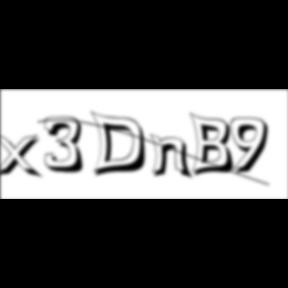3: (45, 116, 91, 176)
9: (230, 117, 276, 177)
B: (190, 111, 240, 179)
D: (90, 110, 152, 180)
n: (150, 132, 196, 181)
x: (0, 132, 46, 181)
